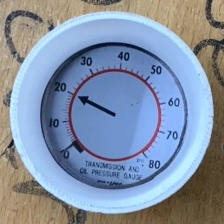gauge: (40, 43, 188, 190), (40, 42, 187, 188)
